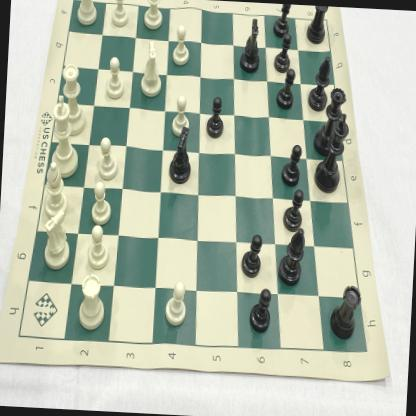black-bishop: (277, 227, 304, 288), (306, 52, 331, 112)
black-king: (314, 112, 348, 193)
black-knight: (166, 126, 193, 184), (239, 15, 262, 74)
black-pawn: (246, 284, 272, 336), (238, 232, 262, 280), (279, 142, 302, 188), (282, 189, 305, 233), (274, 66, 295, 110), (205, 94, 224, 140), (273, 34, 292, 72), (271, 4, 291, 36)
black-queen: (314, 87, 346, 155)
white-bishop: (40, 160, 70, 220), (141, 0, 164, 30)
white-king: (46, 92, 82, 180)
white-knight: (40, 208, 74, 270), (137, 39, 164, 98)
white-pawn: (84, 224, 112, 270), (163, 280, 188, 328), (97, 135, 119, 181), (104, 54, 125, 100), (90, 180, 112, 223), (170, 94, 191, 136), (170, 25, 191, 67), (109, 0, 130, 29)
white-queen: (54, 62, 89, 136)
white-rook: (327, 280, 362, 342), (75, 272, 106, 331), (305, 5, 328, 47), (72, 0, 97, 26)
